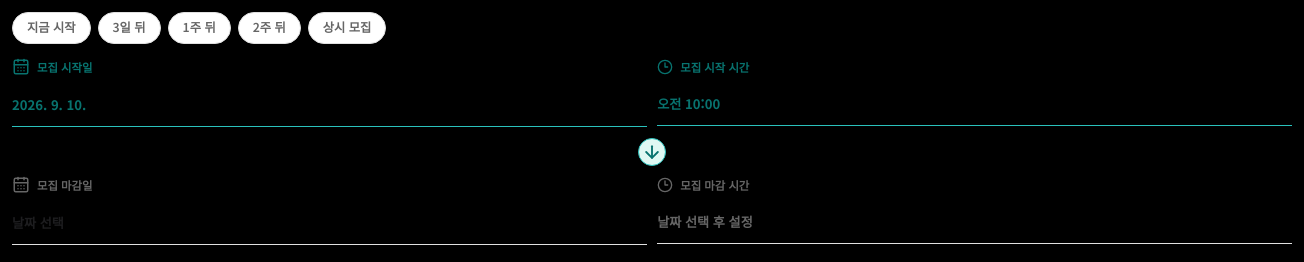
Test: DateRangePicker › Given a start date, When 2주 뒤 is selected, Then the matching local end date is shown
Click the button "2주 뒤" at (269, 28), box [238,12,301,44]
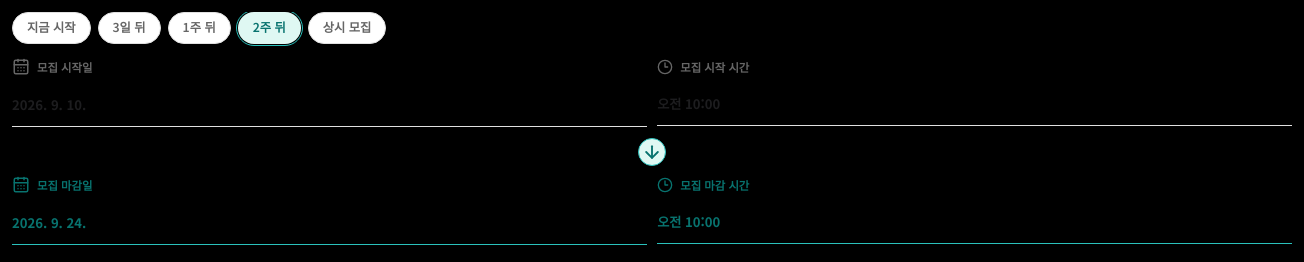
Expected: the button named "모집 마감일 선택" reads "2026. 9. 24.", [12,201,647,245]
Expected: the button with aria-label "모집 마감 시간 선택" reads "오전 10:00", [657,200,1292,244]
